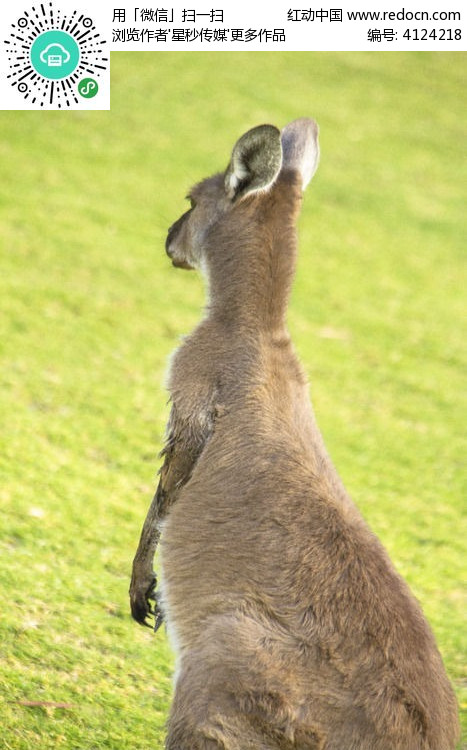kangaroo: (131, 114, 458, 743)
